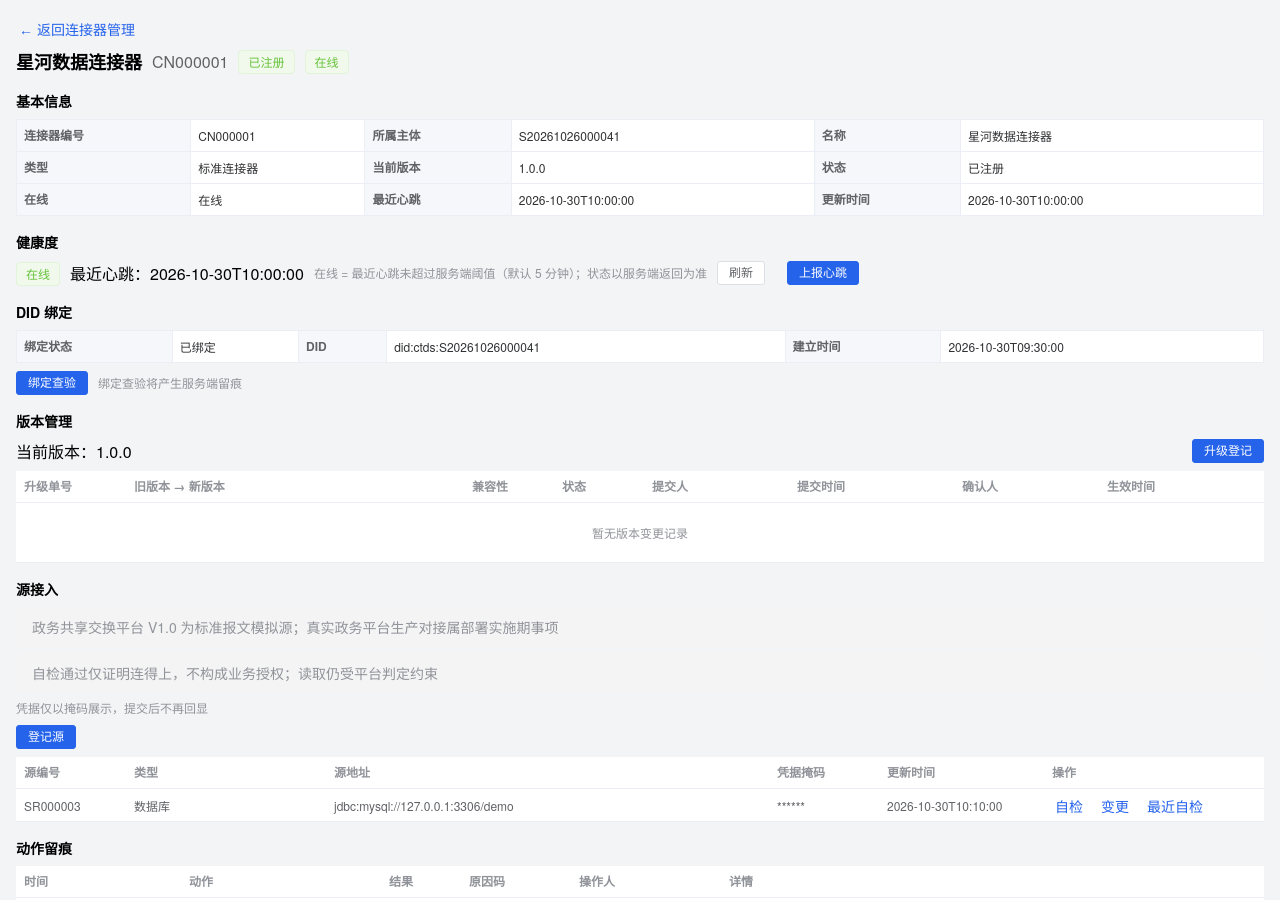
Test case: 健康度与绑定查验（T6） › DID 服务不可用（1010S0002）：错误文案原样展示，不冒充结论
The image size is (1280, 900).
Click the button "绑定查验".
click(52, 383)  # box [16,371,88,395]
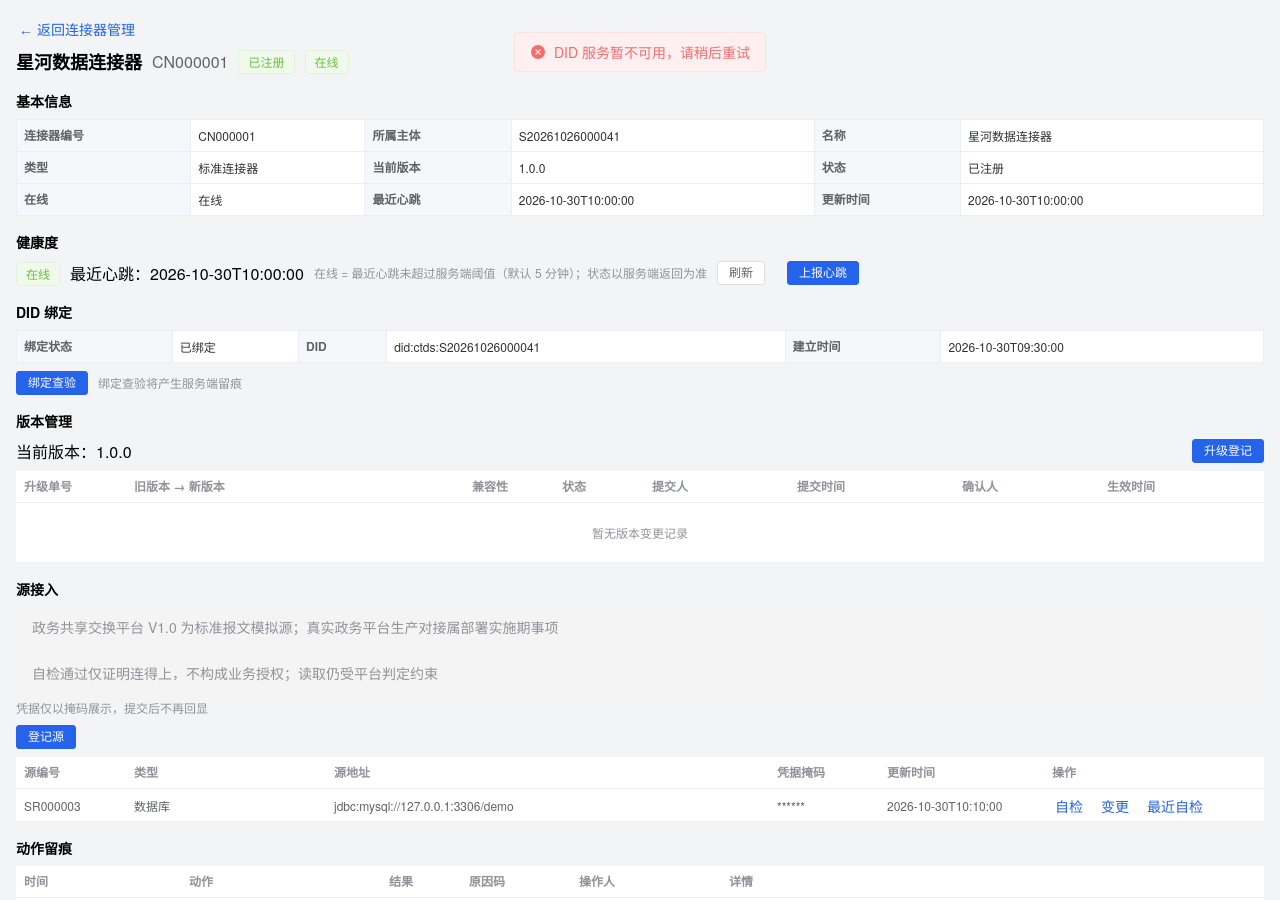
expect the text "DID 服务暂不可用，请稍后重试" is shown: met, box [554,45,750,59]
